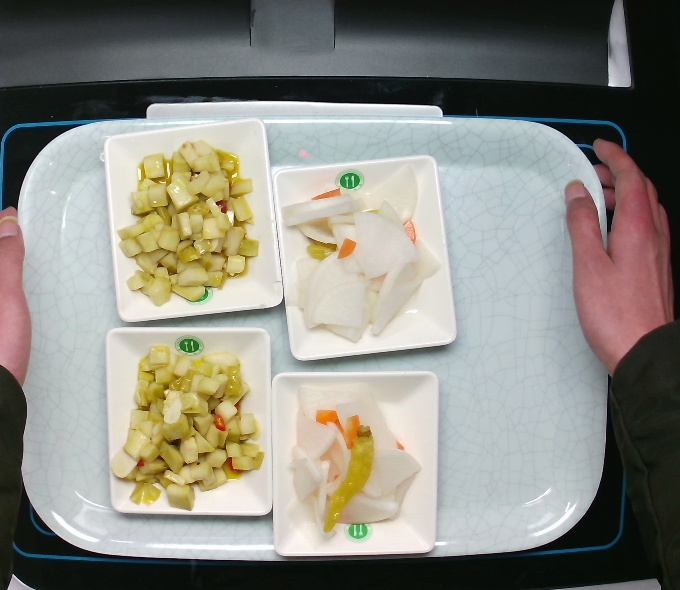wcq-LuLuoBo: (272, 155, 443, 352), (276, 376, 427, 538)
wcq-TangCuOu: (105, 333, 267, 513), (113, 121, 266, 304)
